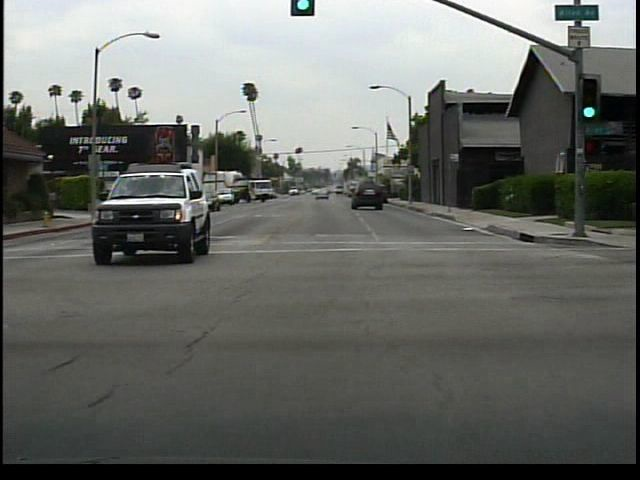person: (111, 183, 130, 217)
